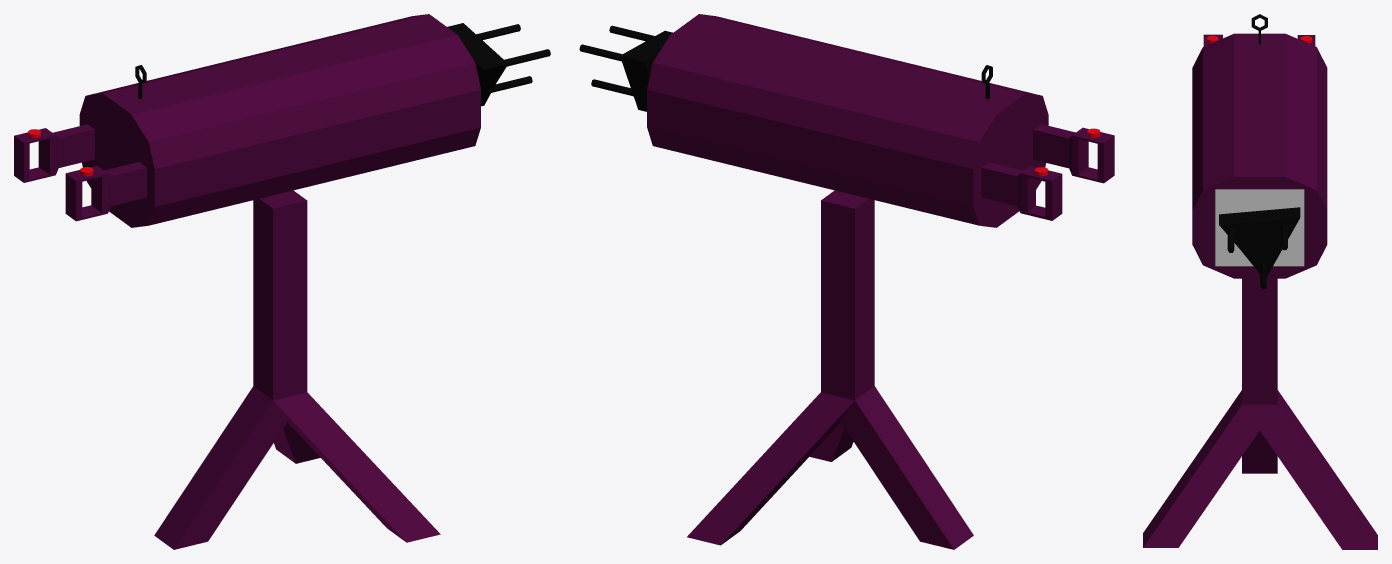
Rendered from turret.fbx.
3 views of the same model, side by side, from view 1: azimuth 30°, elevation 25°; view 2: azimuth 150°, elevation 25°; view 3: azimuth 270°, elevation 25° (orthographic). The views are drawn at different scales.
Parts seen in each view (by area): view 1: turretBody, legs, turretNuzzle; view 2: turretBody, legs, turretNuzzle; view 3: turretBody, legs, turretNuzzle.
Boxes of the visible parts, <box> form: turretBody: <box>14,14,480,227</box>; legs: <box>154,190,440,549</box>; turretNuzzle: <box>447,23,550,106</box>; turretBody: <box>647,14,1114,227</box>; legs: <box>687,190,973,549</box>; turretNuzzle: <box>579,25,672,111</box>; turretBody: <box>1192,14,1327,278</box>; legs: <box>1143,278,1377,549</box>; turretNuzzle: <box>1219,207,1300,289</box>.
Bounding box in the file's own units: 299 × 283 × 139.
